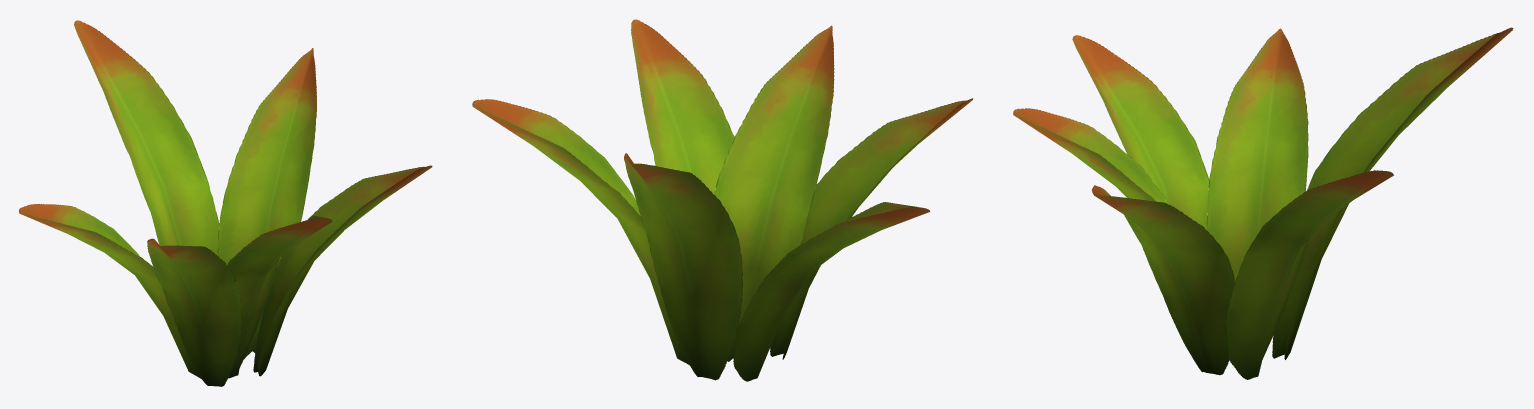
Rendered from Plant_1.gltf.
3 views of the same model, side by side, from view 1: azimuth 30°, elevation 25°; view 2: azimuth 150°, elevation 25°; view 3: azimuth 270°, elevation 25° (orthographic). The views are drawn at different scales.
Parts seen in each view (by area): view 1: Plant_1; view 2: Plant_1; view 3: Plant_1.
Part boxes in pixels (box(x1,y1,x2,y2)): Plant_1: box(19, 20, 432, 386); Plant_1: box(472, 19, 972, 381); Plant_1: box(1013, 27, 1513, 379).
Bounding box in the file's own units: 1.27 × 1.01 × 1.39.
1 material, 1 textured.
